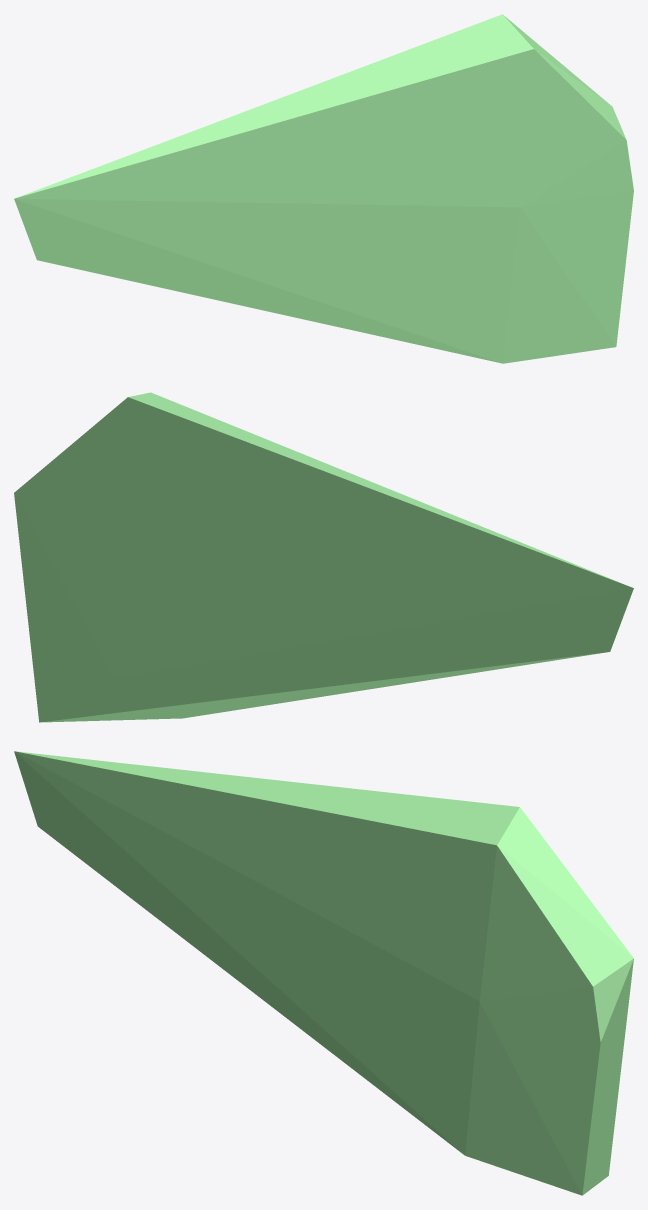
Rendered from UMIRobot_robot_base_coll_2.dae.
The picture shows the model from 3 angles, top to bottom: view 1: azimuth 30°, elevation 25°; view 2: azimuth 150°, elevation 25°; view 3: azimuth 330°, elevation 25°; orthographic projection. The views are drawn at different scales.
Parts seen in each view (by area): view 1: node; view 2: node; view 3: node.
Part boxes in pixels (x1,y1,x2,y2): node: (14,14,633,363); node: (14,392,633,722); node: (14,751,633,1195).
Bounding box in the file's own units: 0.0361 × 0.0193 × 0.00294.
